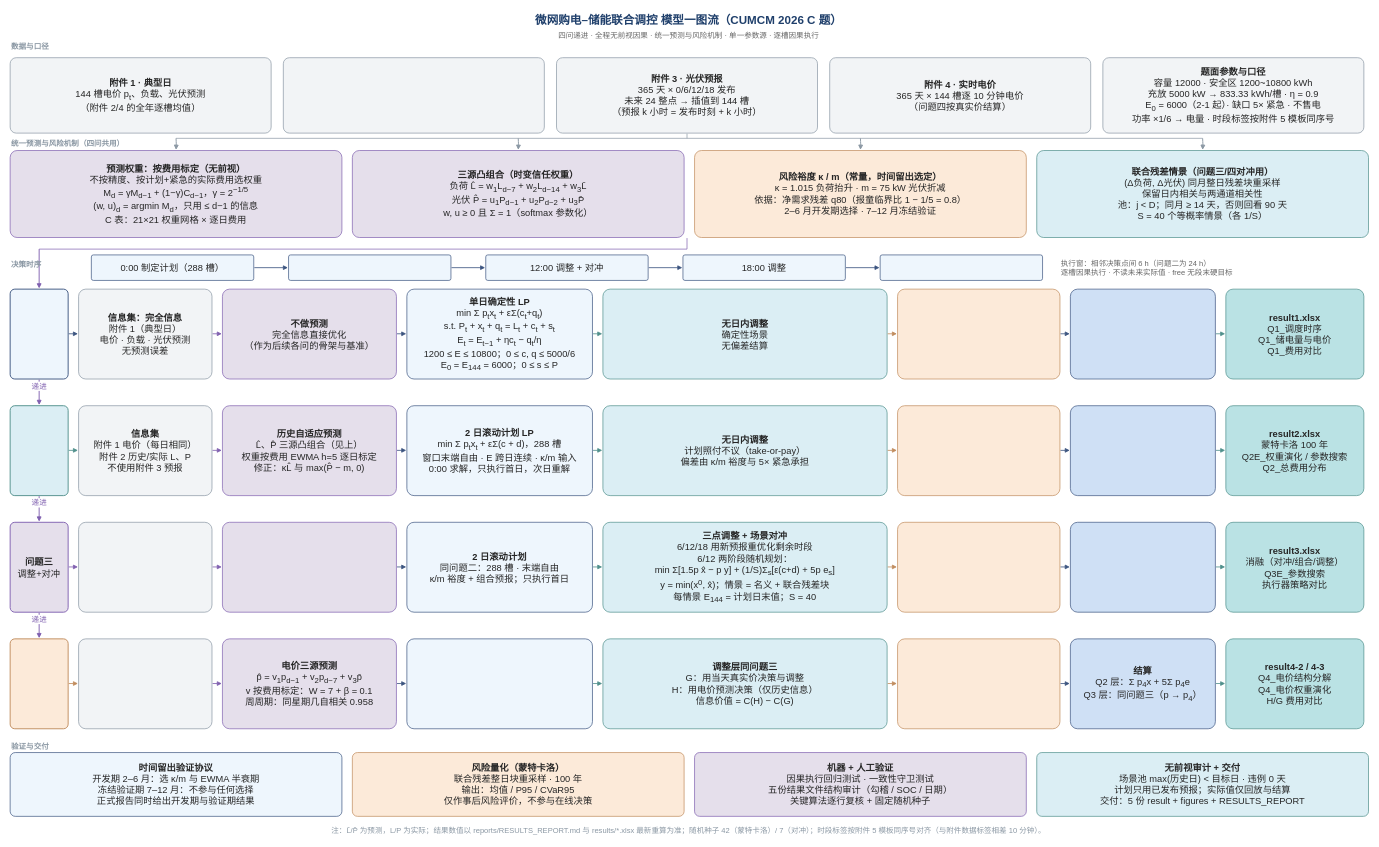
Image size: 1379x847. Some labels were removed from this diagram. Each missing label, with the centre of its shape:
"24:00 日末 · SOC 跨日" belongs at point 961,267.
"6:00 调整 + 对冲" belongs at point 369,267.
"信息集 附件 2/3 + 附件 4 实时电价 G：当天电价已知（主口径） H：仅历史价预测（信息扩展）" belongs at point 145,683.
"信息集 附件 2/3（0/6/12/18 预报） 白天 MAE：0:00 约 373 kW 13–18 时 MAE：413 → 76 kW" belongs at point 145,567.
"双结构重算（同口径） Q2 层：2 日滚动，同问题二构造 Q3 层：组合 + 三点 + 对冲，同问题三 电价换为附件 4；结算按真实价" belongs at point 499,683.
"执行 = 规划解 储能动作即最优解 无缺额、无弃光（本例）" belongs at point 978,333.
"组合预报 P̂mix = λf 0 + (1−λ)P̂hist，λ = 0.7 6/12/18 用最新发布的组合预报 调整层与计划层必须同口径" belongs at point 309,567.
"结算 C = Σ p t x t + 5Σ p t e t" belongs at point 1142,450.
"结算：计划购电费 C = Σ p t x t 结果：35126.95 元/日 基线 48048.6 元 → 省 26.9%" belongs at point 1142,333.
"调整结算（final） C = Σ p x a + 0.5Σ p|x 0 − x a | + 5Σ p e 调低付 50% · 调高按 150%" belongs at point 1142,567.
"逐槽因果执行 free；按附件 4 真实价结算 储能在低价时段充电、高价放电" belongs at point 978,683.
"逐槽因果执行 free；每 6 h 窗只落地当期决策 段末 SOC 自由；缺口 5×" belongs at point 978,567.
"逐槽因果执行 每槽只读当前已实现 L、P 储能吸收富余 / 覆盖缺口 缺口 → 5× 紧急 e；余量 → 弃光 s free：无段末硬目标" belongs at point 978,450.
"问题一 完全信息" belongs at point 38,333.
"问题二 预测+执行" belongs at point 38,450.
"问题四 电价波动" belongs at point 38,683.
"附件 2 · 全年实测 365 天负荷 L、光伏 P 实际值 （仅用于执行回放与结算真值）" belongs at point 413,95.
